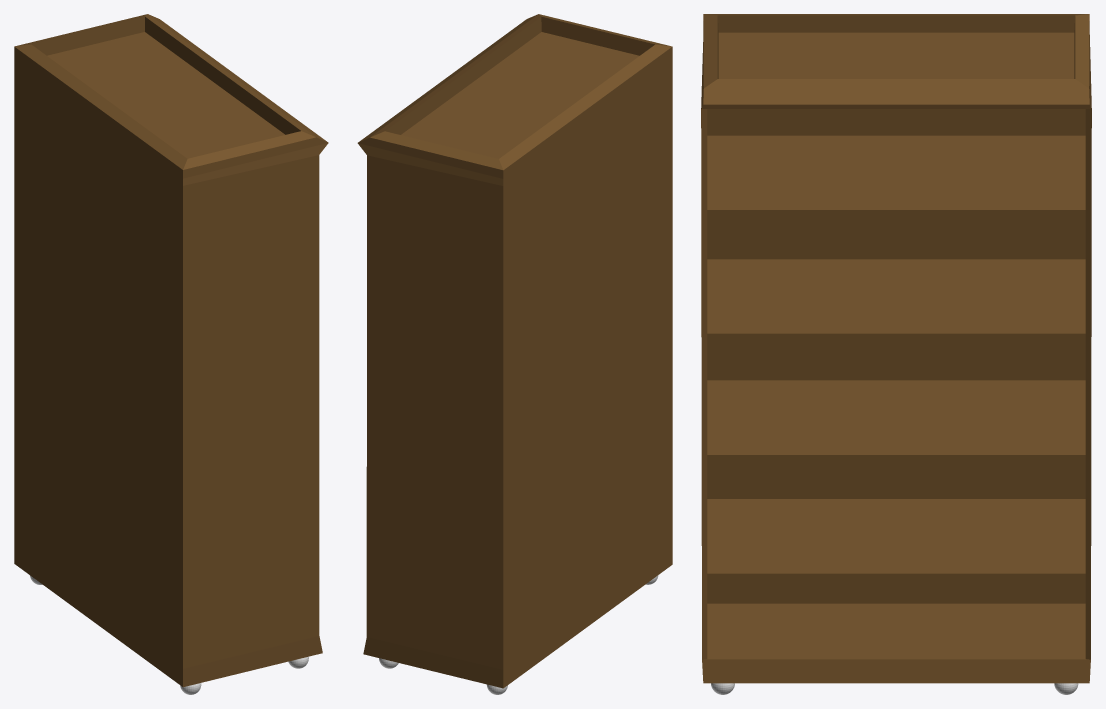
The model's file is BookShelf.fbx.
3 views of the same model, side by side, from view 1: azimuth 30°, elevation 25°; view 2: azimuth 150°, elevation 25°; view 3: azimuth 270°, elevation 25° (orthographic). The views are drawn at different scales.
Visible parts, largest first — view 1: Cube; view 2: Cube; view 3: Cube, Cube.001.
Part boxes in pixels (x1,y1,x2,y2): Cube: (14,14,328,687); Cube: (357,14,672,688); Cube: (701,14,1091,683); Cube.001: (707,135,1085,575).
Size of the model in its own units: 384 by 1354 by 779.
